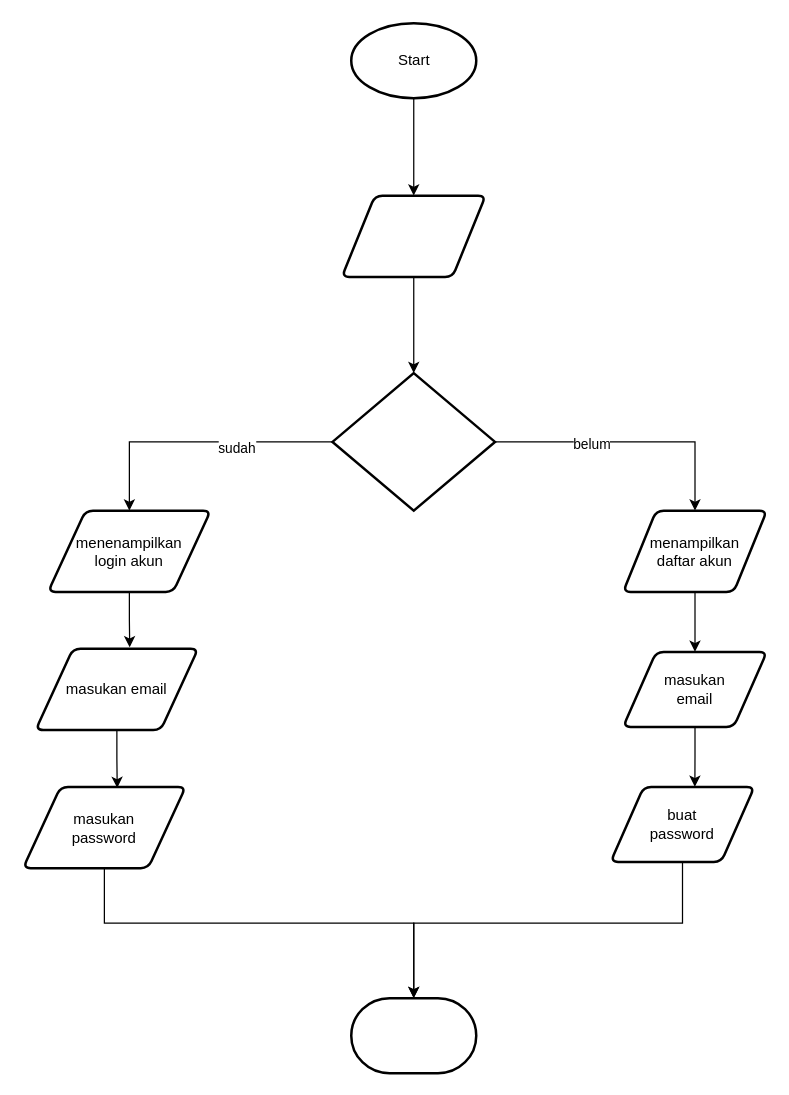
This 789x1095 diagram has some shape labels left out. Here are the shapes that lost their labels. From the top down, the centre of each, then its label:
At point (413, 236): "user memilih login/daftar".
At point (413, 441): "apakah user sudah memiliki akun?".
At point (413, 1035): "selesai".
